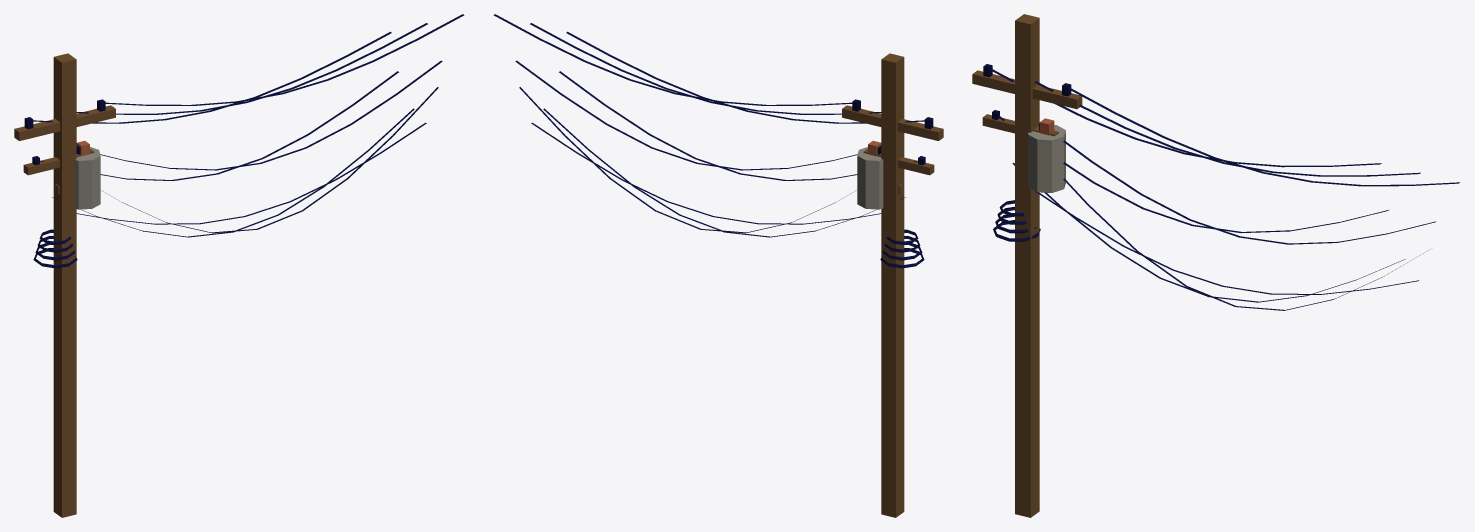
File: env_post_electric.obj
3 renders of one model, left to right at view 1: azimuth 30°, elevation 25°; view 2: azimuth 150°, elevation 25°; view 3: azimuth 330°, elevation 25°, orthographic. The views are drawn at different scales.
Visible parts, largest first — view 1: PostElectric; view 2: PostElectric; view 3: PostElectric.
Part boxes in pixels (x1=…): PostElectric: x1=14, y1=14, x2=464, y2=517; PostElectric: x1=493, y1=14, x2=943, y2=517; PostElectric: x1=972, y1=14, x2=1459, y2=517.
Size of the model in its own units: 7.4 by 7.2 by 0.6342.
